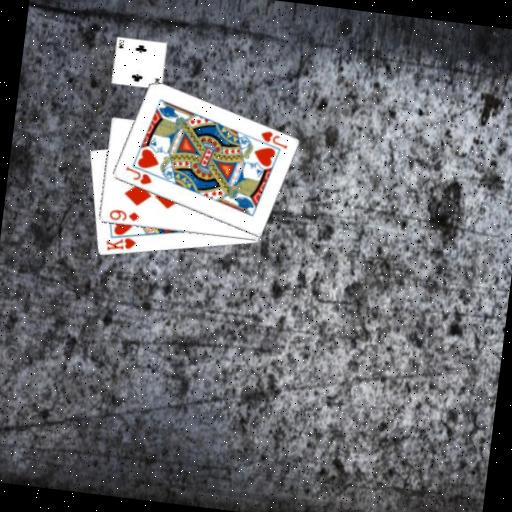9D: (106, 206, 141, 224)
JH: (121, 163, 155, 187), (256, 127, 290, 151)
KH: (102, 233, 138, 256)
